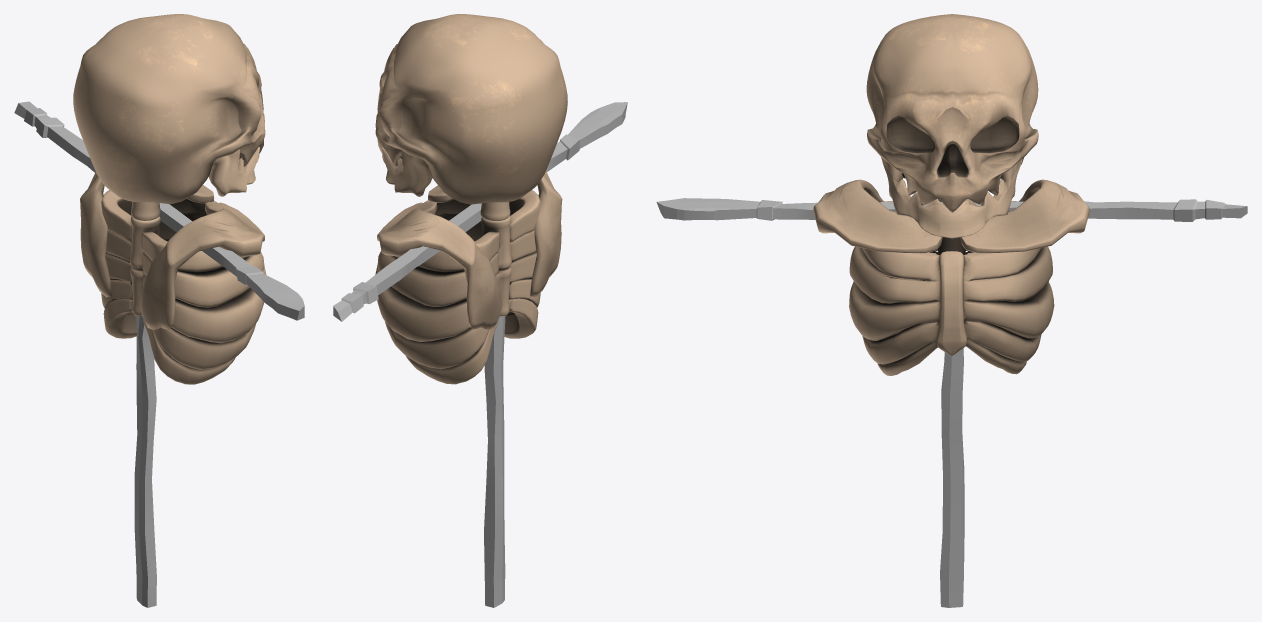
The model's file is Fight_Dummy.fbx.
3 renders of one model, left to right at view 1: azimuth 30°, elevation 25°; view 2: azimuth 150°, elevation 25°; view 3: azimuth 270°, elevation 25°, orthographic. The views are drawn at different scales.
Visible parts, largest first — view 1: Skull, Ribs, Shoulder_Blade, pCube36, pCube37, Shoulder_Blade1, Jaw, Upper_Spinebone; view 2: Skull, Ribs, Shoulder_Blade1, pCube36, pCube37, Shoulder_Blade, Jaw, Upper_Spinebone; view 3: Skull, Ribs, pCube37, pCube36, Shoulder_Blade, Shoulder_Blade1, Jaw.
Boxes of the visible parts, <box> form: Skull: <box>73,14,265,203</box>; Ribs: <box>101,190,266,384</box>; Shoulder_Blade: <box>140,201,264,329</box>; pCube36: <box>134,315,156,607</box>; pCube37: <box>14,101,304,320</box>; Shoulder_Blade1: <box>80,172,214,297</box>; Jaw: <box>208,147,259,196</box>; Upper_Spinebone: <box>131,201,160,220</box>; Skull: <box>375,14,567,204</box>; Ribs: <box>375,190,540,384</box>; Shoulder_Blade1: <box>377,201,502,329</box>; pCube36: <box>484,315,505,607</box>; pCube37: <box>333,102,627,321</box>; Shoulder_Blade: <box>428,171,562,296</box>; Jaw: <box>381,147,432,196</box>; Upper_Spinebone: <box>480,202,510,220</box>; Skull: <box>866,14,1038,212</box>; Ribs: <box>849,201,1054,375</box>; pCube37: <box>656,198,1247,221</box>; pCube36: <box>940,348,964,607</box>; Shoulder_Blade: <box>813,179,942,253</box>; Shoulder_Blade1: <box>960,179,1089,253</box>; Jaw: <box>881,157,1022,238</box>.
Size of the model in its own units: 19.98 by 64.34 by 58.04.
